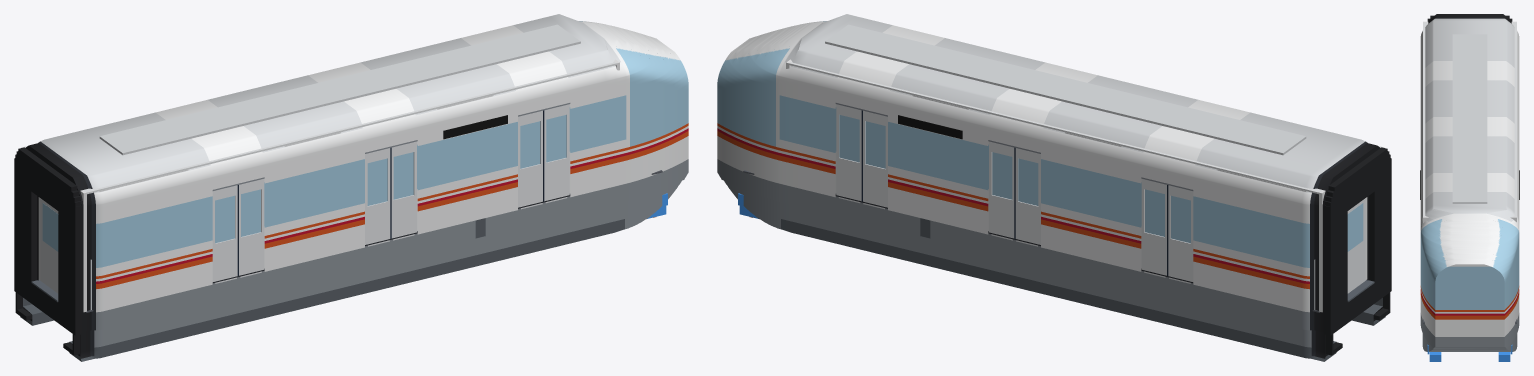
File: beijing_s1_front.obj
3 views of the same model, side by side, from view 1: azimuth 30°, elevation 25°; view 2: azimuth 150°, elevation 25°; view 3: azimuth 270°, elevation 25° (orthographic). The views are drawn at different scales.
Parts seen in each view (by area): view 1: SHELL, SHELL_roof, SHELL_diaphragm, EXTERNAL_DOOR_15_CG_DR3_TOGGLE_TL_-0.59_X, EXTERNAL_DOOR_9_CG_DR2_TOGGLE_TL_-0.59_X, EXTERNAL_DOOR_3_CG_DR1_TOGGLE_TL_-0.59_X, EXTERNAL_DOOR_10_CG_DR2_TOGGLE_TL_0.59_X, EXTERNAL_DOOR_4_CG_DR1_TOGGLE_TL_0.59_X, EXTERNAL_DOOR_16_CG_DR3_TOGGLE_TL_0.59_X, SHELL_ceiling, CONNECTING_DOOR_1_CG_CR_TOGGLE_TL_0.98_Z, SHELL_end (+1 smaller); view 2: SHELL, SHELL_roof, SHELL_diaphragm, EXTERNAL_DOOR_18_CG_DL3_TOGGLE_TL_-0.59_X, EXTERNAL_DOOR_12_CG_DL2_TOGGLE_TL_-0.59_X, EXTERNAL_DOOR_6_CG_DL1_TOGGLE_TL_-0.59_X, EXTERNAL_DOOR_13_CG_DL2_TOGGLE_TL_0.59_X, EXTERNAL_DOOR_7_CG_DL1_TOGGLE_TL_0.59_X, EXTERNAL_DOOR_19_CG_DL3_TOGGLE_TL_0.59_X, SHELL_ceiling, CONNECTING_DOOR_1_CG_CR_TOGGLE_TL_0.98_Z, SHELL_end (+1 smaller); view 3: SHELL, SHELL_roof, SHELL_ceiling, BOGEY_FRONT.
Boxes of the visible parts, <box> form: SHELL: <box>20,14,688,361</box>; SHELL_roof: <box>99,24,580,155</box>; SHELL_diaphragm: <box>14,147,81,355</box>; EXTERNAL_DOOR_15_CG_DR3_TOGGLE_TL_-0.59_X: <box>518,110,544,207</box>; EXTERNAL_DOOR_9_CG_DR2_TOGGLE_TL_-0.59_X: <box>365,147,391,244</box>; EXTERNAL_DOOR_3_CG_DR1_TOGGLE_TL_-0.59_X: <box>212,185,238,281</box>; EXTERNAL_DOOR_10_CG_DR2_TOGGLE_TL_0.59_X: <box>391,141,416,238</box>; EXTERNAL_DOOR_4_CG_DR1_TOGGLE_TL_0.59_X: <box>239,179,264,275</box>; EXTERNAL_DOOR_16_CG_DR3_TOGGLE_TL_0.59_X: <box>544,104,569,201</box>; SHELL_ceiling: <box>24,61,616,194</box>; CONNECTING_DOOR_1_CG_CR_TOGGLE_TL_0.98_Z: <box>40,198,58,293</box>; SHELL_end: <box>21,147,86,312</box>; SHELL: <box>717,14,1385,361</box>; SHELL_roof: <box>825,24,1306,155</box>; SHELL_diaphragm: <box>1324,147,1391,355</box>; EXTERNAL_DOOR_18_CG_DL3_TOGGLE_TL_-0.59_X: <box>861,110,887,207</box>; EXTERNAL_DOOR_12_CG_DL2_TOGGLE_TL_-0.59_X: <box>1014,147,1040,244</box>; EXTERNAL_DOOR_6_CG_DL1_TOGGLE_TL_-0.59_X: <box>1167,185,1193,281</box>; EXTERNAL_DOOR_13_CG_DL2_TOGGLE_TL_0.59_X: <box>989,141,1014,238</box>; EXTERNAL_DOOR_7_CG_DL1_TOGGLE_TL_0.59_X: <box>1141,179,1166,275</box>; EXTERNAL_DOOR_19_CG_DL3_TOGGLE_TL_0.59_X: <box>836,104,861,201</box>; SHELL_ceiling: <box>789,61,1381,194</box>; CONNECTING_DOOR_1_CG_CR_TOGGLE_TL_0.98_Z: <box>1347,198,1365,293</box>; SHELL_end: <box>1319,147,1384,312</box>; SHELL: <box>1420,14,1519,351</box>; SHELL_roof: <box>1452,34,1487,203</box>; SHELL_ceiling: <box>1423,22,1516,216</box>; BOGEY_FRONT: <box>1427,344,1512,361</box>.
Bounding box in the file's own units: 15.46 × 4.28 × 2.86.
1 material, 1 textured.
